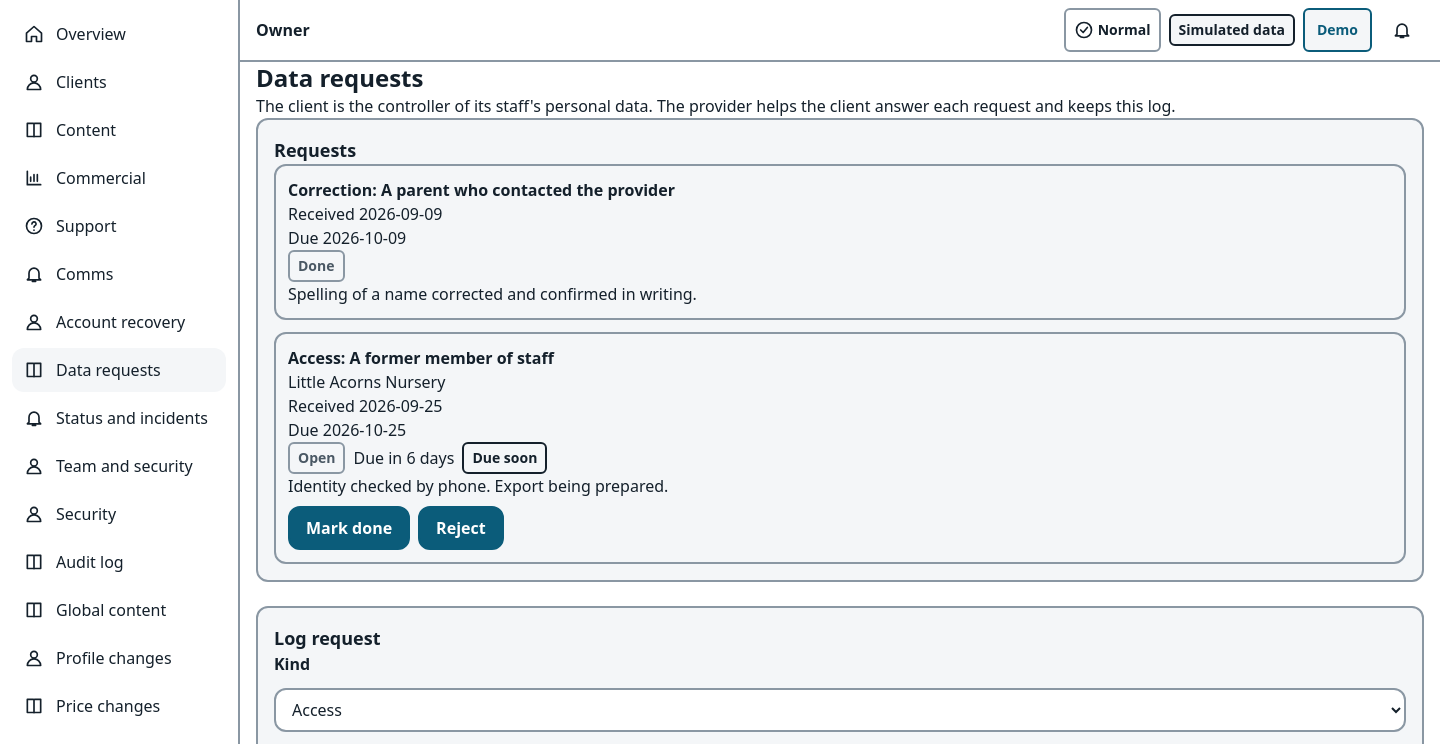
Test: P16 Data requests › keeps Mark done unavailable until evidence is entered, then shows Done and the evidence
Expected: the heading "Data requests" is shown, [256,62,423,94]
Step 1. Click the button "Mark done" → (349, 528), box [288,506,410,550]
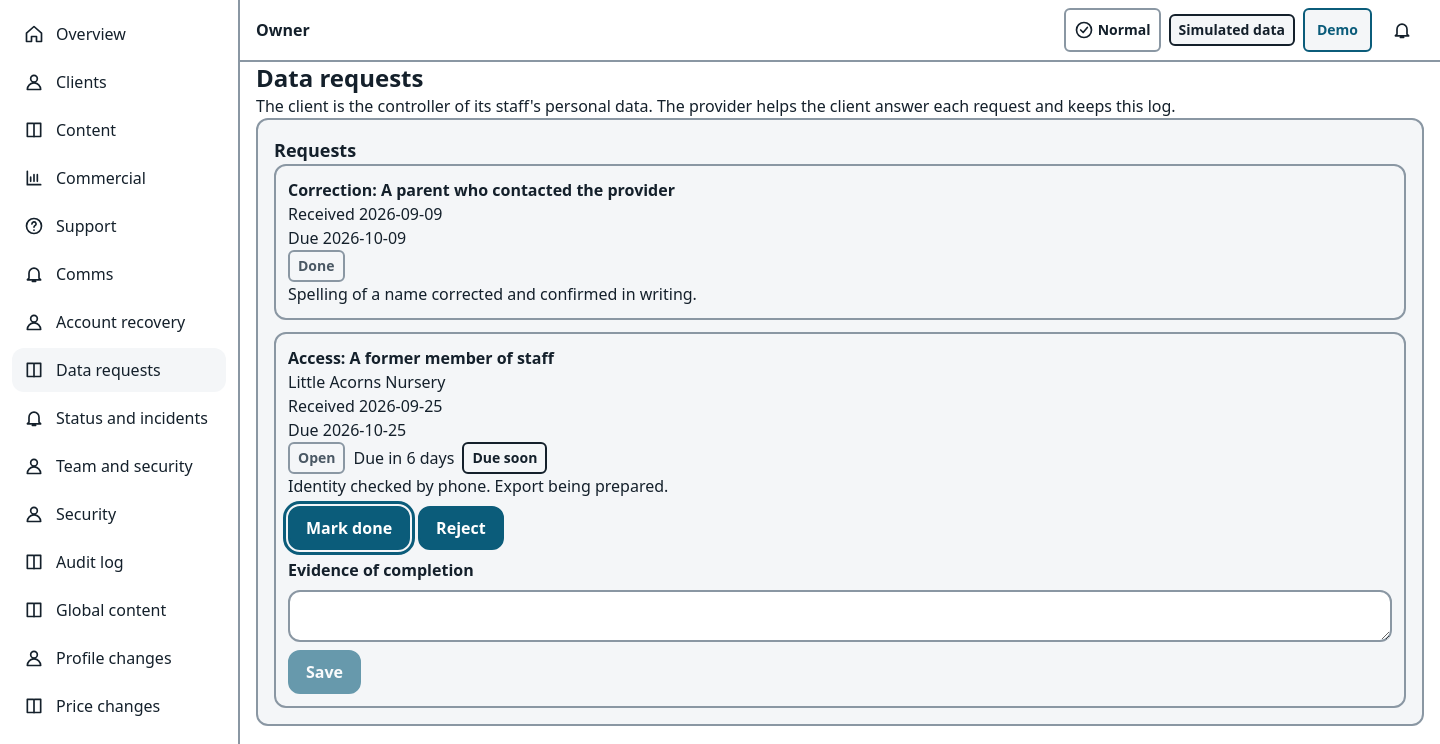
Expected: the button "Save" is disabled, [288,650,361,694]
Step 2. Type "Export sent on 20 Oct" into the text box labelled "Evidence of completion" → (840, 616), box [288,590,1392,642]
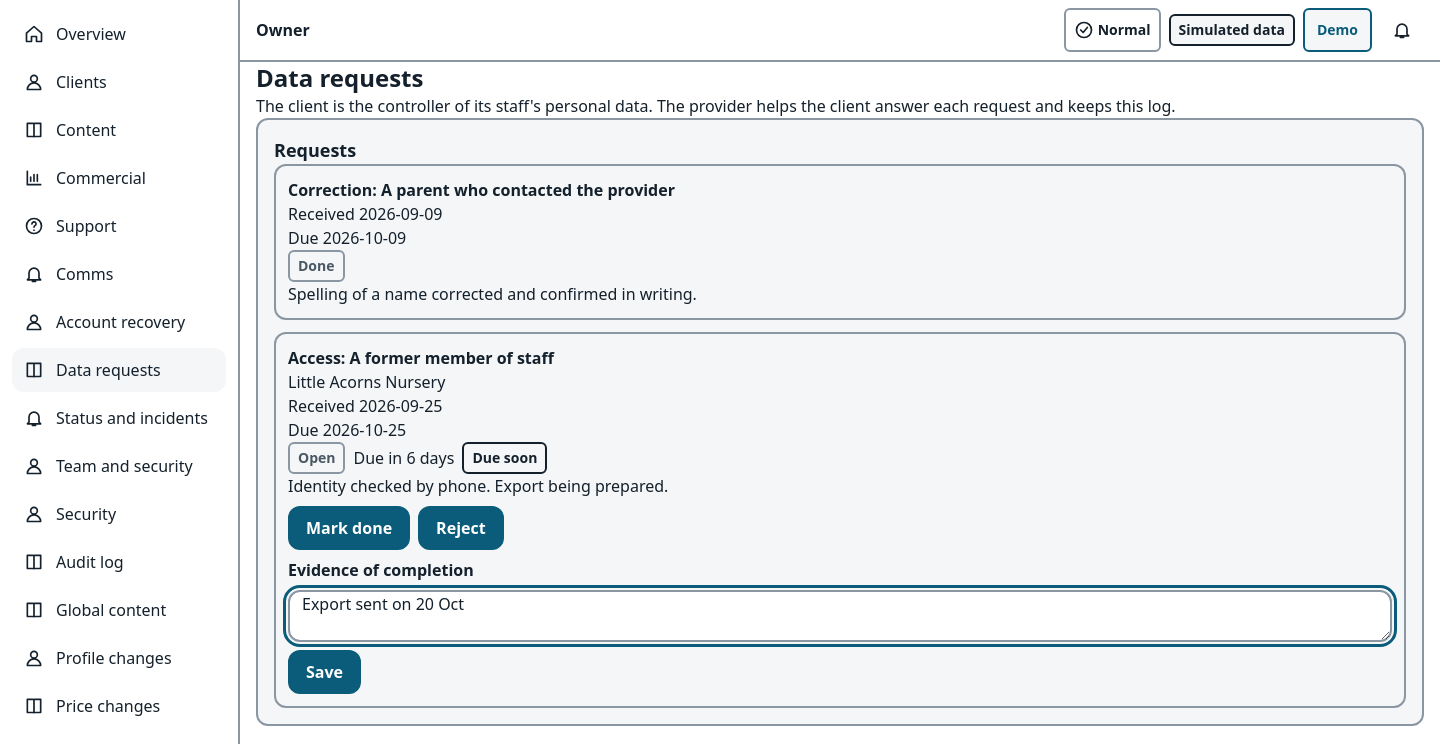
Expected: the button "Save" is enabled
Step 3. Click the button "Save" → (324, 672), box [288,650,361,694]
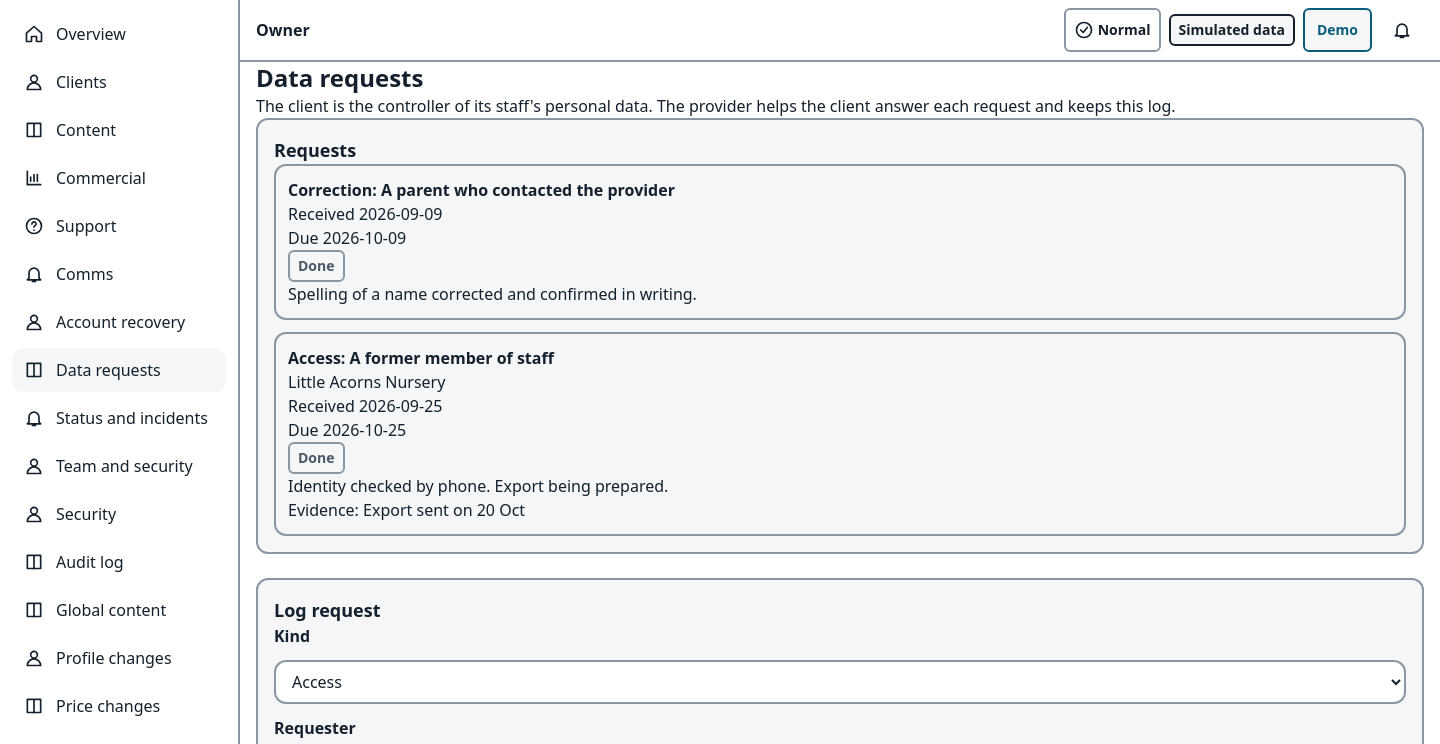
Expected: the list item with test id "dr-row" shows "Done", [298,448,334,467]
Expected: the list item with test id "dr-row" shows "Export sent on 20 Oct", [288,499,525,521]
Expected: no buttons "Mark done" are shown
